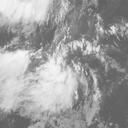cyclone: (29, 64, 79, 113)
